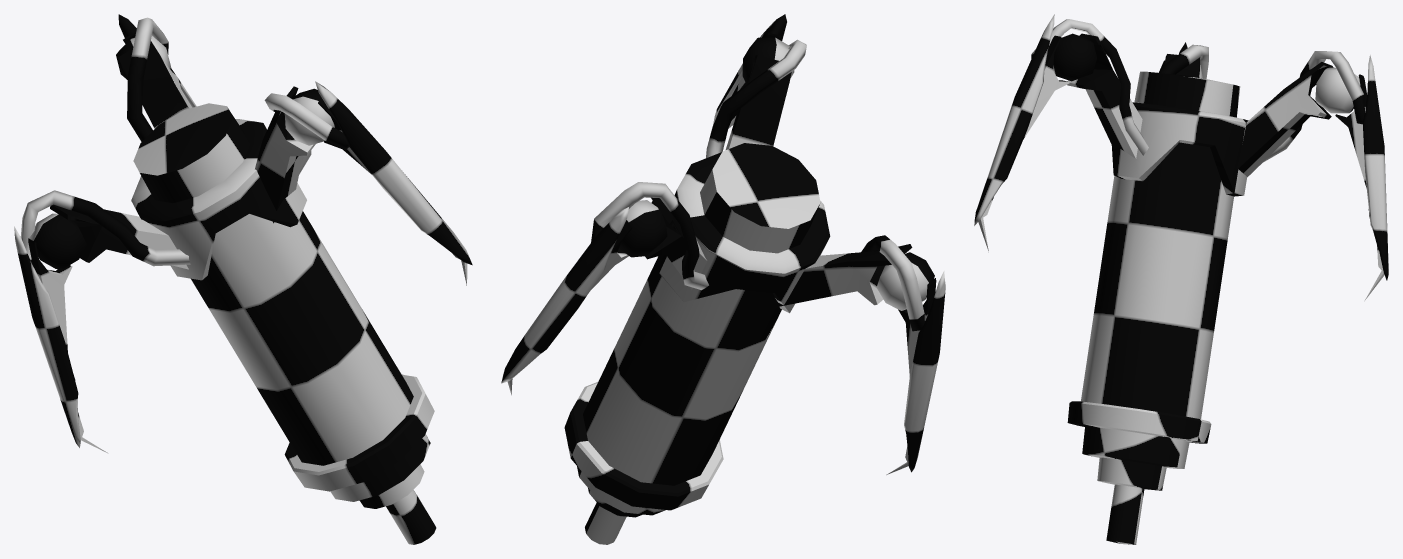
The model's file is i_oil.obj.
The picture shows the model from 3 angles, left to right: view 1: azimuth 30°, elevation 25°; view 2: azimuth 150°, elevation 25°; view 3: azimuth 270°, elevation 25°; orthographic projection. The views are drawn at different scales.
Visible parts, largest first — view 1: I_oil; view 2: I_oil; view 3: I_oil.
Boxes of the visible parts, x1,y1,x2,y2 form: I_oil: [14, 14, 472, 544]; I_oil: [501, 14, 945, 544]; I_oil: [974, 14, 1388, 544].
Size of the model in its own units: 48.27 by 62.57 by 49.81.
1 material, 1 textured.
